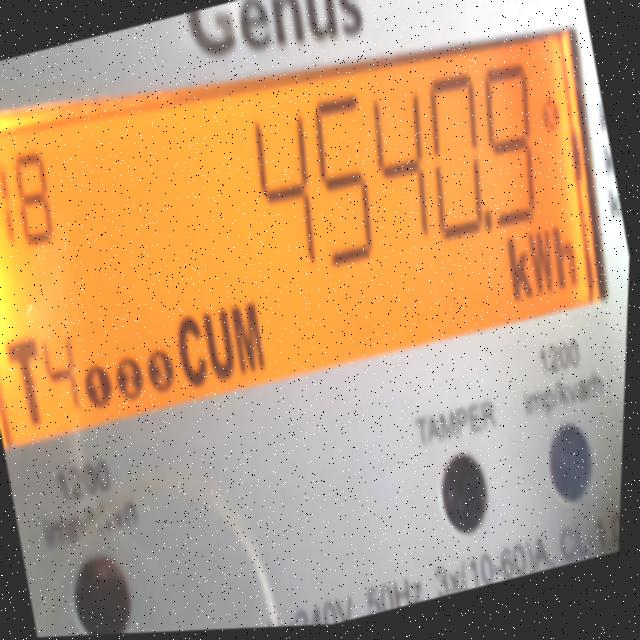.: (479, 204, 500, 242)
0: (411, 66, 505, 258)
4: (236, 93, 344, 294), (356, 81, 452, 261)
5: (296, 79, 403, 295)
9: (465, 51, 560, 242)
